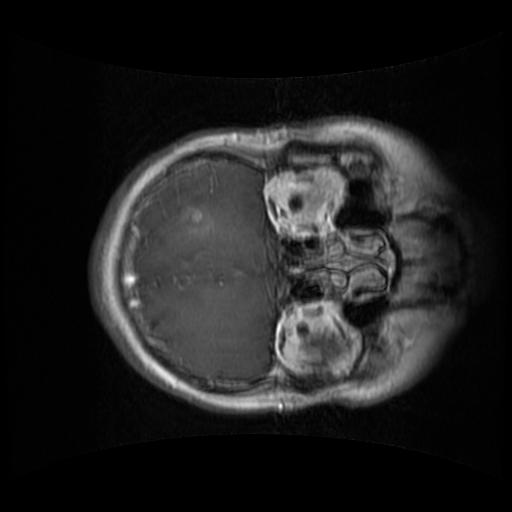glioma: (165, 203, 209, 236)
